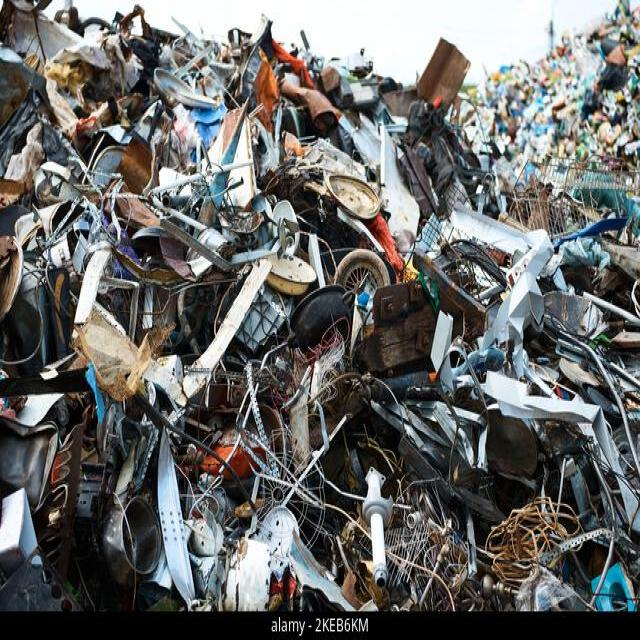metal: (71, 72, 582, 524)
